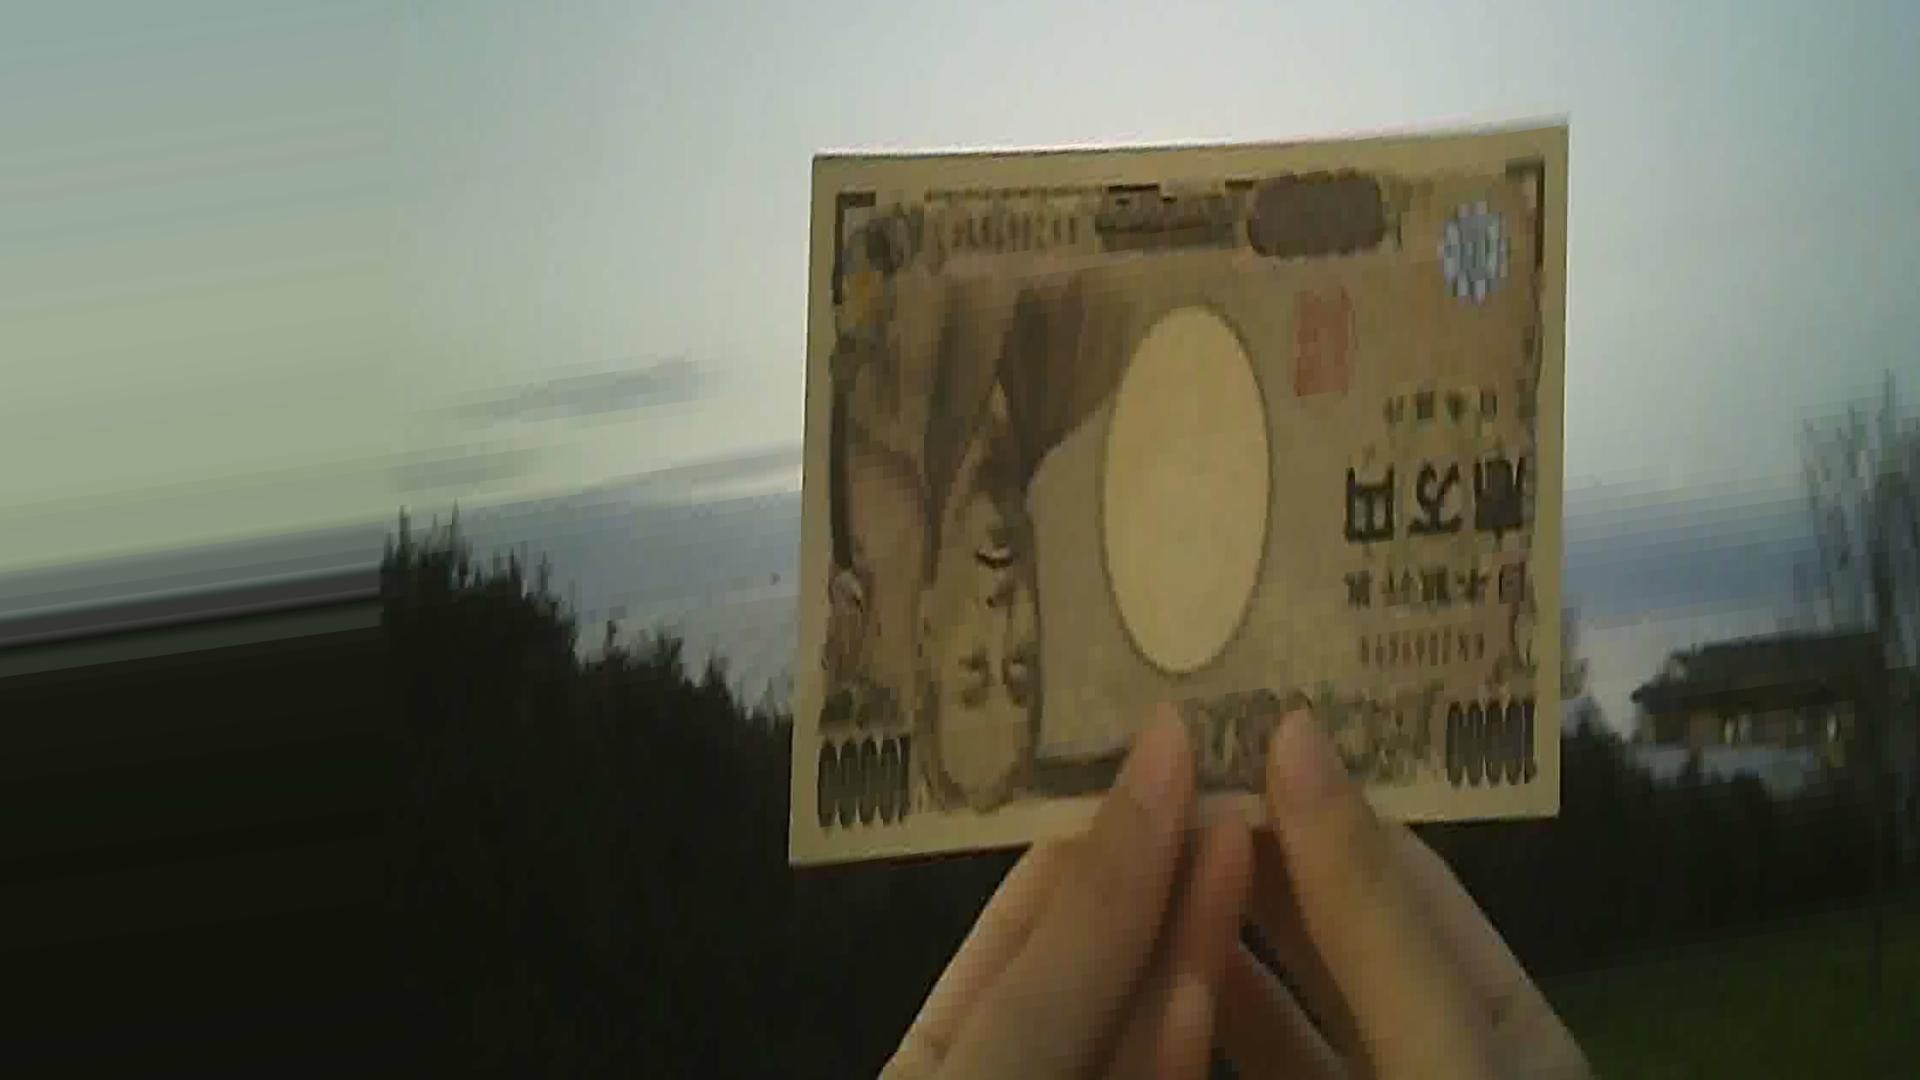10,000 Yen: (771, 138, 1592, 833)
